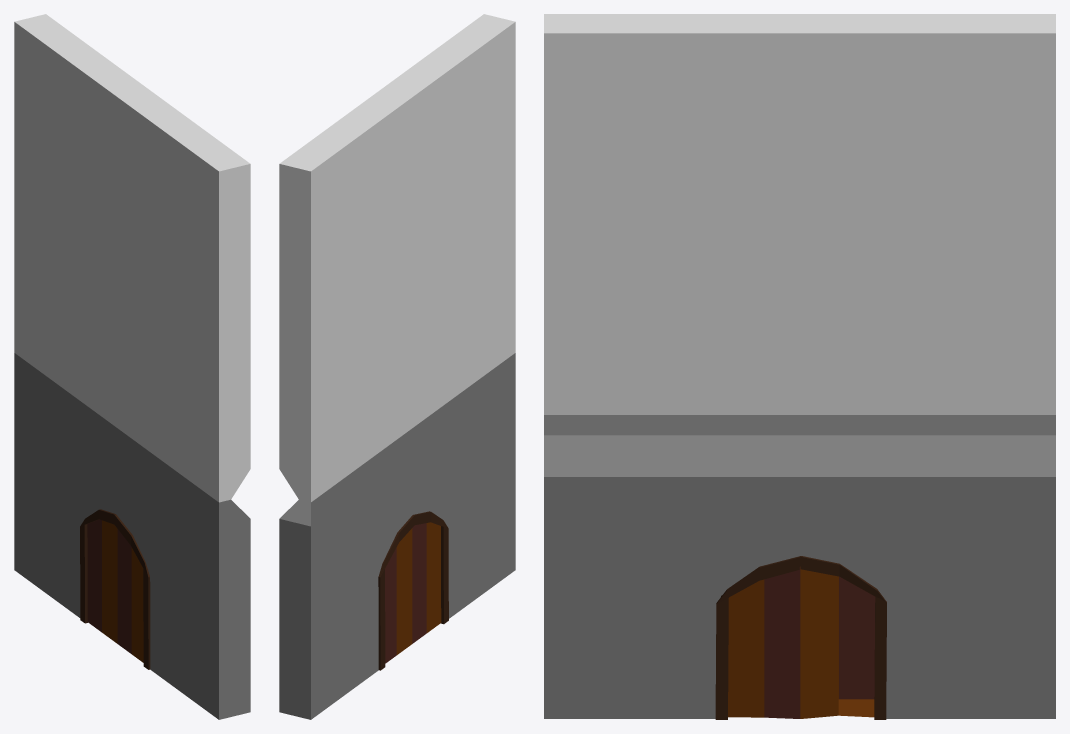
Rendered from PORTARATY.fbx.
3 renders of one model, left to right at view 1: azimuth 30°, elevation 25°; view 2: azimuth 150°, elevation 25°; view 3: azimuth 270°, elevation 25°, orthographic. The views are drawn at different scales.
Visible parts, largest first — view 1: Cube.002, Cube, Cube.001, Cube.004, Cube.003; view 2: Cube.002, Cube, Cube.003, Cube.004, Cube.001; view 3: Cube.002, Cube, Cube.004, Cube.003, Cube.001.
Part boxes in pixels (x1=…): Cube.002: x1=14, y1=14, x2=250, y2=719; Cube: x1=87, y1=519, x2=143, y2=662; Cube.001: x1=80, y1=524, x2=87, y2=623; Cube.004: x1=80, y1=509, x2=149, y2=577; Cube.003: x1=143, y1=568, x2=150, y2=669; Cube.002: x1=279, y1=14, x2=515, y2=719; Cube: x1=385, y1=522, x2=441, y2=663; Cube.003: x1=441, y1=526, x2=448, y2=624; Cube.004: x1=379, y1=511, x2=447, y2=576; Cube.001: x1=378, y1=568, x2=385, y2=670; Cube.002: x1=544, y1=14, x2=1055, y2=718; Cube: x1=728, y1=567, x2=875, y2=718; Cube.004: x1=716, y1=556, x2=886, y2=603; Cube.003: x1=715, y1=597, x2=728, y2=719; Cube.001: x1=874, y1=596, x2=886, y2=719.
Bounding box in the file's own units: 41.26 × 593 × 401.
